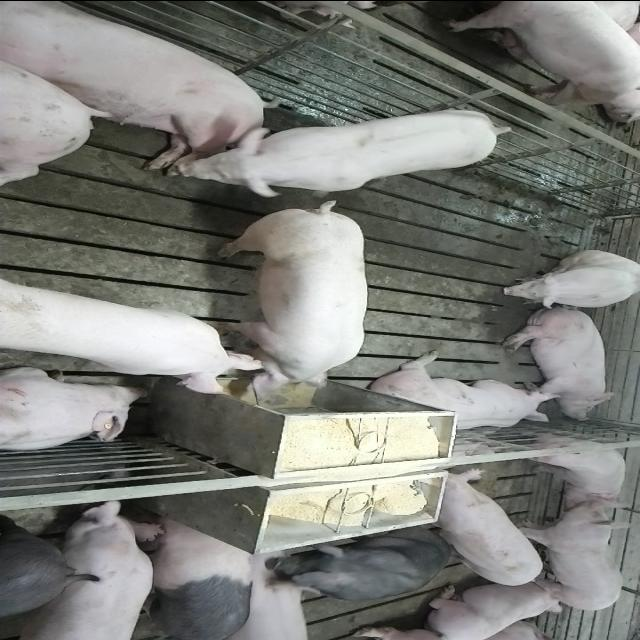Feeding: (8, 276, 274, 394), (208, 200, 362, 403)
Lateral_lying: (500, 306, 620, 420)
Sitting: (496, 250, 640, 310)
Standing: (172, 102, 514, 196), (440, 0, 640, 114), (2, 500, 162, 638), (130, 514, 256, 637), (417, 470, 545, 588), (506, 498, 624, 614), (275, 533, 455, 602), (2, 520, 92, 626), (512, 436, 626, 508)
Sternal_lying: (366, 354, 562, 432), (0, 368, 148, 456), (421, 582, 567, 638), (488, 619, 569, 640)
